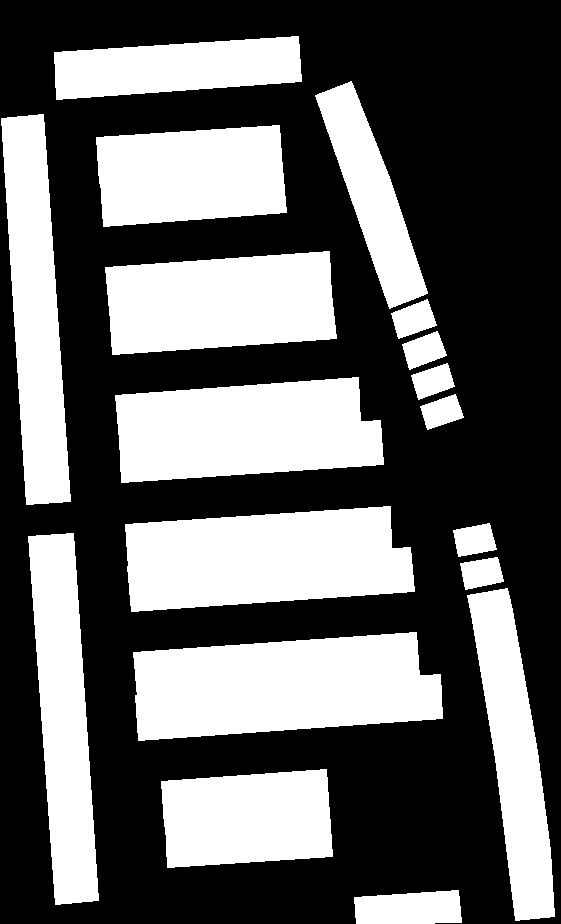parkingspot: (467, 588, 554, 920), (1, 114, 70, 504), (28, 533, 98, 904), (315, 81, 427, 308), (135, 674, 442, 740), (133, 632, 419, 697), (127, 547, 414, 611), (125, 506, 391, 568), (119, 420, 383, 482), (54, 36, 301, 99), (115, 377, 360, 440), (109, 293, 336, 354), (105, 251, 331, 311), (100, 167, 286, 226), (96, 125, 282, 183), (161, 769, 329, 826), (165, 811, 332, 867), (354, 890, 461, 924), (391, 299, 436, 338), (402, 331, 446, 369), (411, 363, 454, 399), (420, 394, 463, 429), (453, 523, 496, 556), (460, 557, 503, 589)
